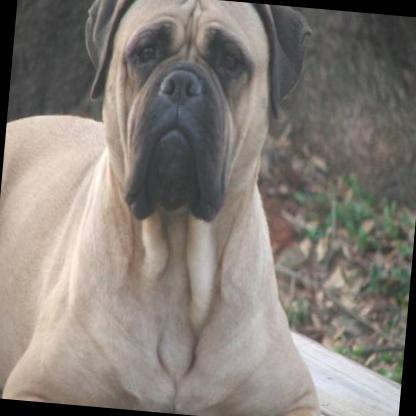bull_mastiff: (0, 0, 355, 416)
